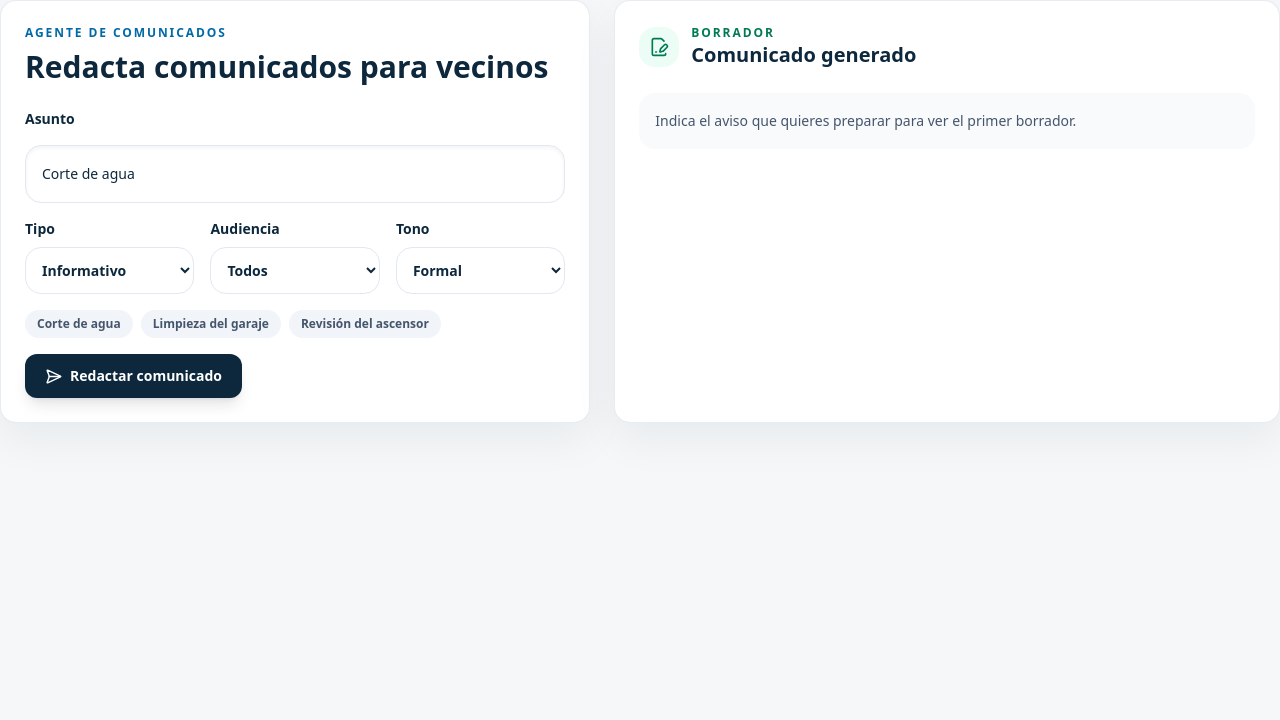
Test: CommunityNoticePanel › muestra el proveedor OpenAI cuando la API lo devuelve
The image size is (1280, 720).
Click the button "Redactar comunicado": [134, 376] box top-left (25, 354), bottom-right (242, 398)
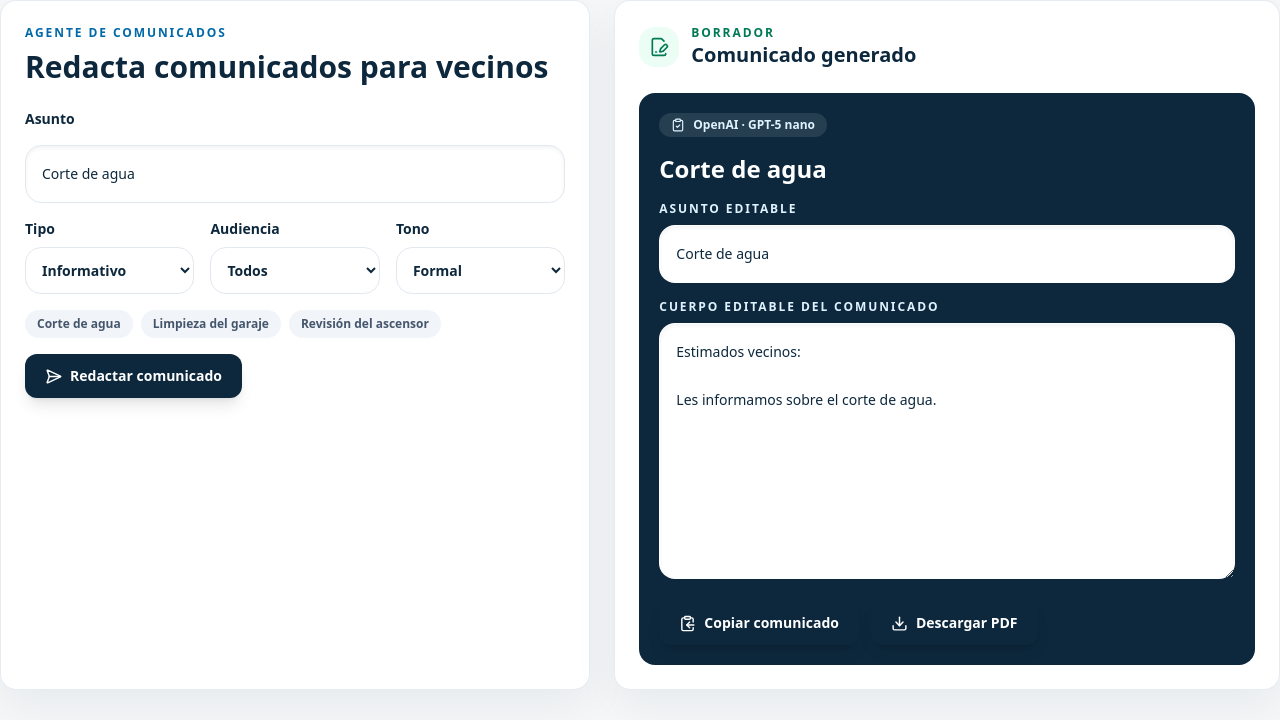
Expected: the text "OpenAI · GPT-5 nano" is shown, top-left (659, 113), bottom-right (827, 137)
